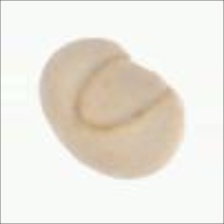L5: (73, 51, 175, 132)
L6: (35, 34, 189, 182)
